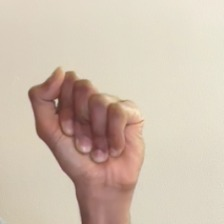A: (18, 56, 170, 203)
